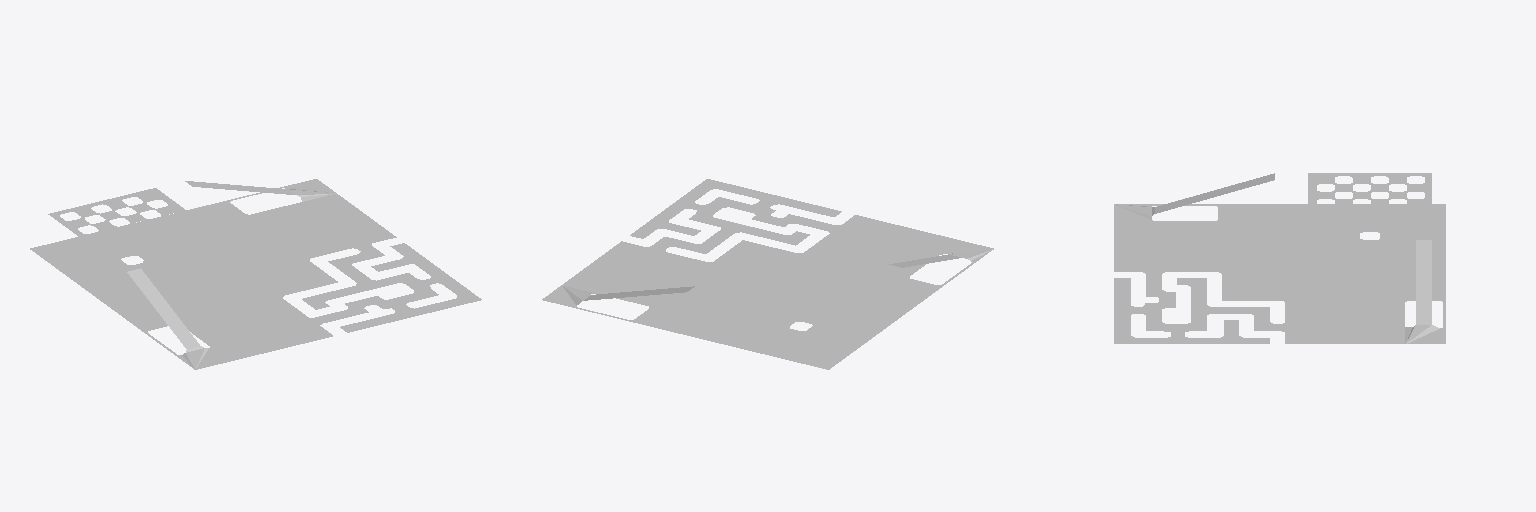
File: Artificial_IntellyGents Exported NavMesh.obj
The picture shows the model from 3 angles: view 1: azimuth 30°, elevation 25°; view 2: azimuth 150°, elevation 25°; view 3: azimuth 270°, elevation 25°; orthographic projection.
Parts seen in each view (by area): view 1: ExportedNavMesh; view 2: ExportedNavMesh; view 3: ExportedNavMesh.
Boxes of the visible parts, x1,y1,x2,y2 form: ExportedNavMesh: [30, 179, 481, 369]; ExportedNavMesh: [542, 179, 993, 369]; ExportedNavMesh: [1114, 173, 1445, 343].
Size of the model in its own units: 36.83 by 4.5 by 36.83.